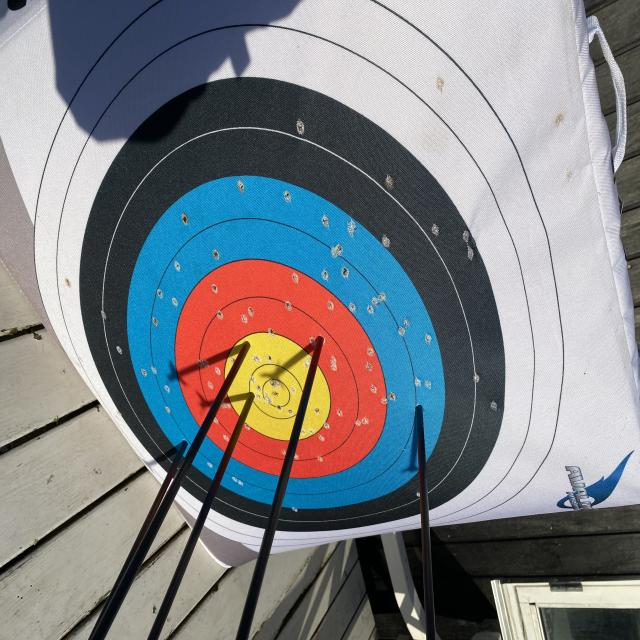Arrow_Blue: (401, 389, 438, 428), (173, 418, 199, 471)
Arrow_Red: (304, 315, 336, 365)
Arrow_Yellow: (230, 314, 264, 368), (239, 385, 277, 430)
